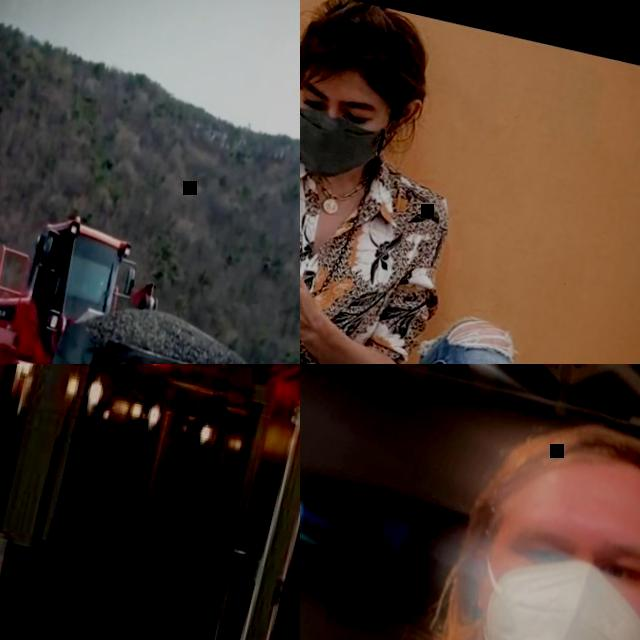machinery: (0, 187, 300, 364)
mask: (465, 543, 640, 640), (300, 105, 385, 184)
no_helmet: (502, 409, 640, 533), (300, 0, 434, 103)
no_vest: (300, 130, 426, 364)
person: (300, 0, 640, 364), (300, 365, 640, 640)
